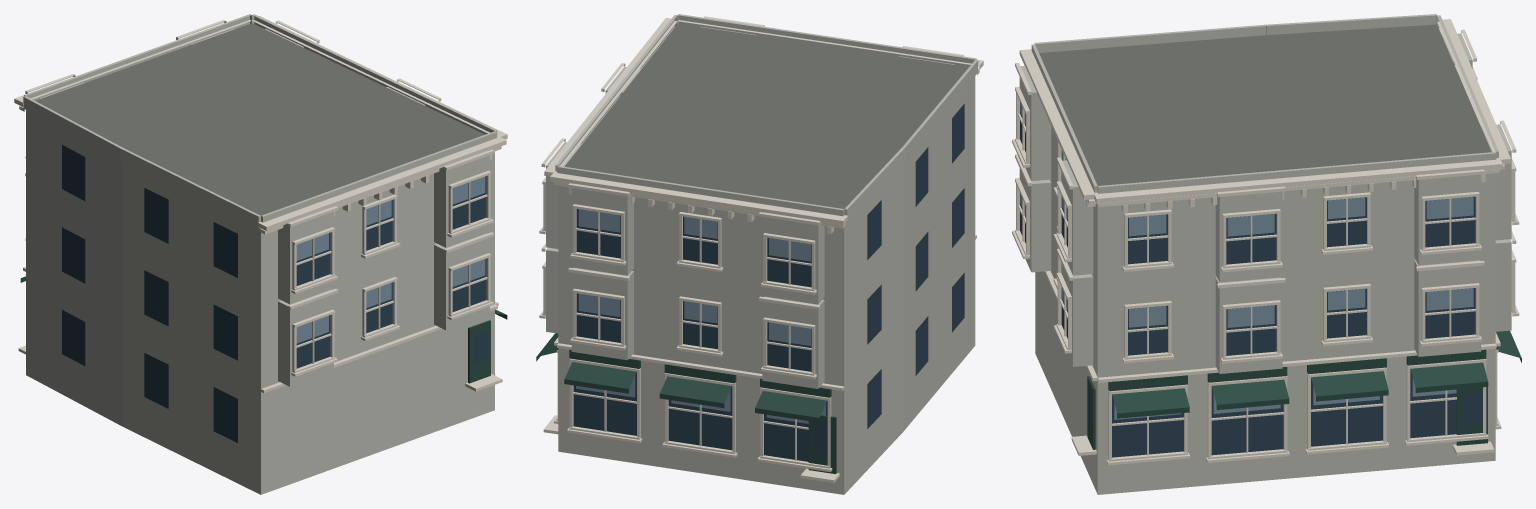
The picture shows the model from 3 angles, left to right: view 1: azimuth 30°, elevation 25°; view 2: azimuth 150°, elevation 25°; view 3: azimuth 270°, elevation 25°; orthographic projection. The views are drawn at different scales.
Parts seen in each view (by area): view 1: Footprint 0 / surface 2, Footprint 0 / surface 1, Facade bay volumes, Cornices and window frames, Inset glazing, Sky reflection panels, Storefronts and doors; view 2: Footprint 0 / surface 2, Footprint 0 / surface 1, Cornices and window frames, Facade bay volumes, Inset glazing, Storefronts and doors, Sky reflection panels; view 3: Footprint 0 / surface 2, Footprint 0 / surface 1, Cornices and window frames, Facade bay volumes, Inset glazing, Storefronts and doors, Sky reflection panels.
Boxes of the visible parts, x1,y1,x2,y2 form: Footprint 0 / surface 2: [26, 110, 494, 494]; Footprint 0 / surface 1: [35, 23, 484, 215]; Facade bay volumes: [23, 14, 497, 386]; Cornices and window frames: [14, 16, 507, 392]; Inset glazing: [62, 145, 486, 442]; Sky reflection panels: [296, 176, 485, 343]; Storefronts and doors: [20, 276, 507, 383]; Footprint 0 / surface 2: [558, 76, 975, 494]; Footprint 0 / surface 1: [565, 23, 968, 208]; Cornices and window frames: [539, 16, 983, 482]; Facade bay volumes: [546, 14, 978, 388]; Inset glazing: [573, 103, 964, 461]; Storefronts and doors: [536, 333, 836, 474]; Sky reflection panels: [576, 209, 825, 423]; Footprint 0 / surface 2: [1035, 127, 1495, 494]; Footprint 0 / surface 1: [1039, 24, 1491, 185]; Cornices and window frames: [1012, 19, 1519, 465]; Facade bay volumes: [1019, 14, 1511, 373]; Inset glazing: [1020, 112, 1481, 457]; Storefronts and doors: [1087, 330, 1521, 449]; Sky reflection panels: [1020, 102, 1473, 419].
Size of the model in its own units: 15.33 by 11.95 by 17.88.
